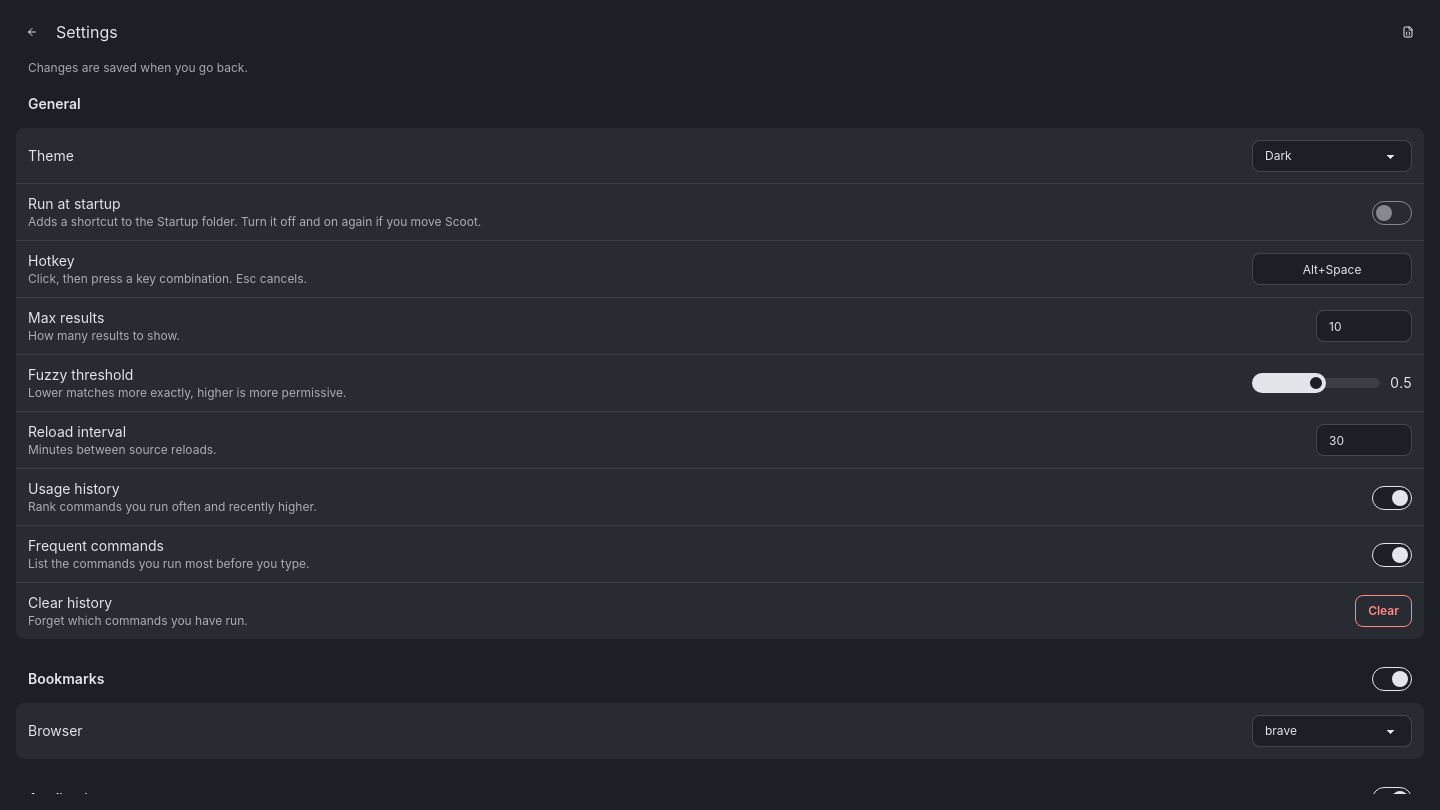
SettingsScreen open settings.json › stays open and says why when the file cannot be opened
Click the button named "Open settings.json": (1408, 32) [1392,16,1424,48]
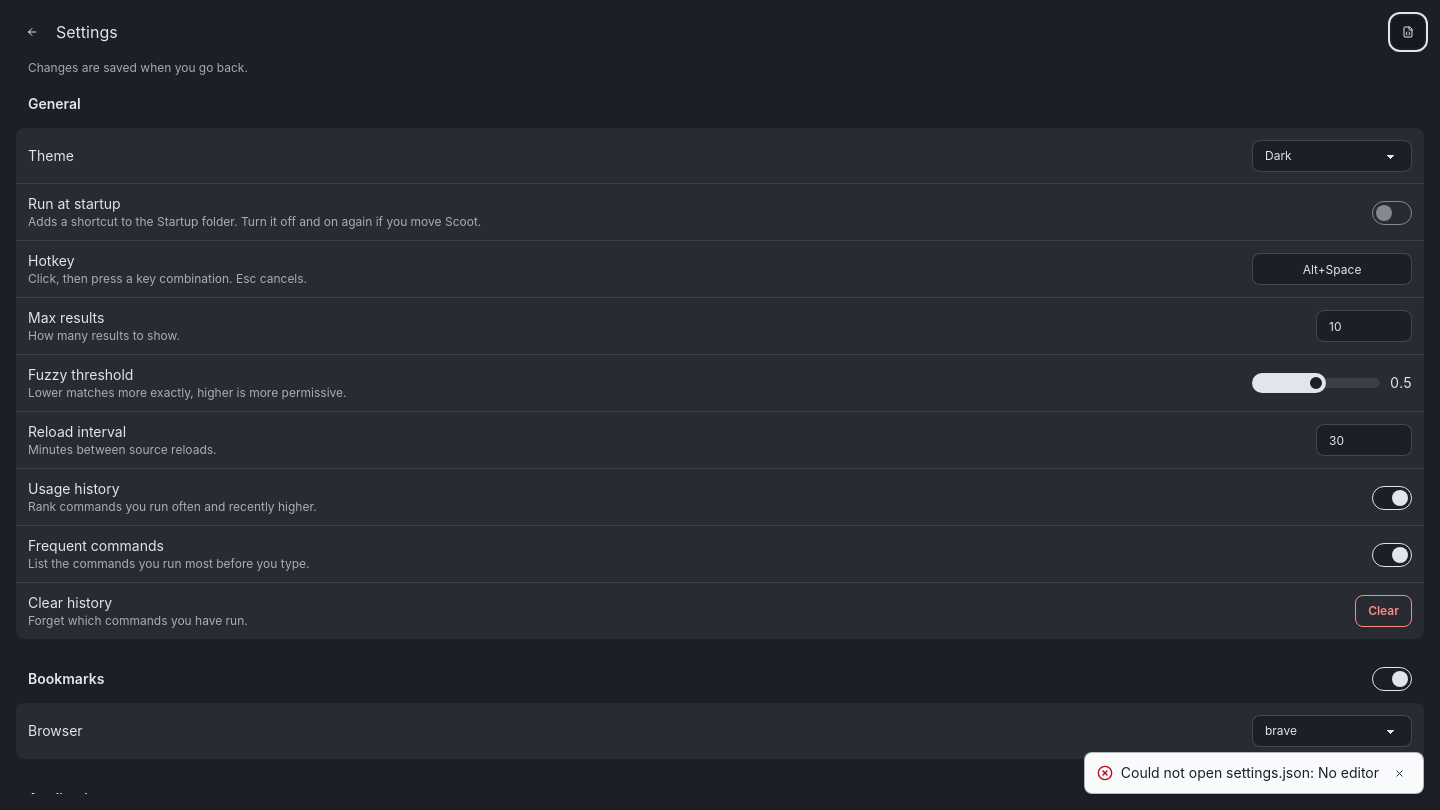
Expected: the text "Could not open settings.json: No editor" is shown, [1121,763,1379,783]
